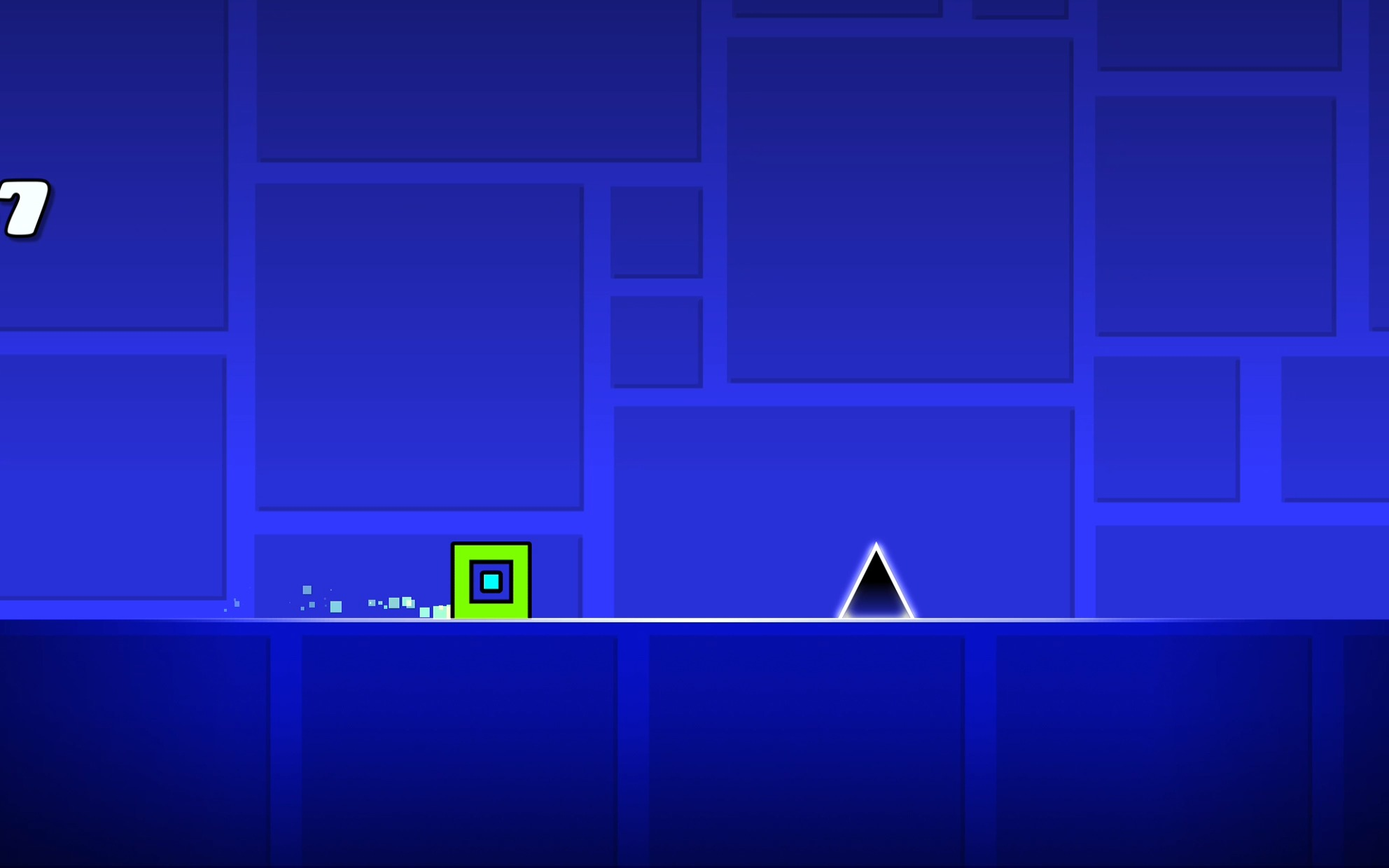Player: (449, 542, 533, 618)
Spike: (837, 544, 914, 618)
